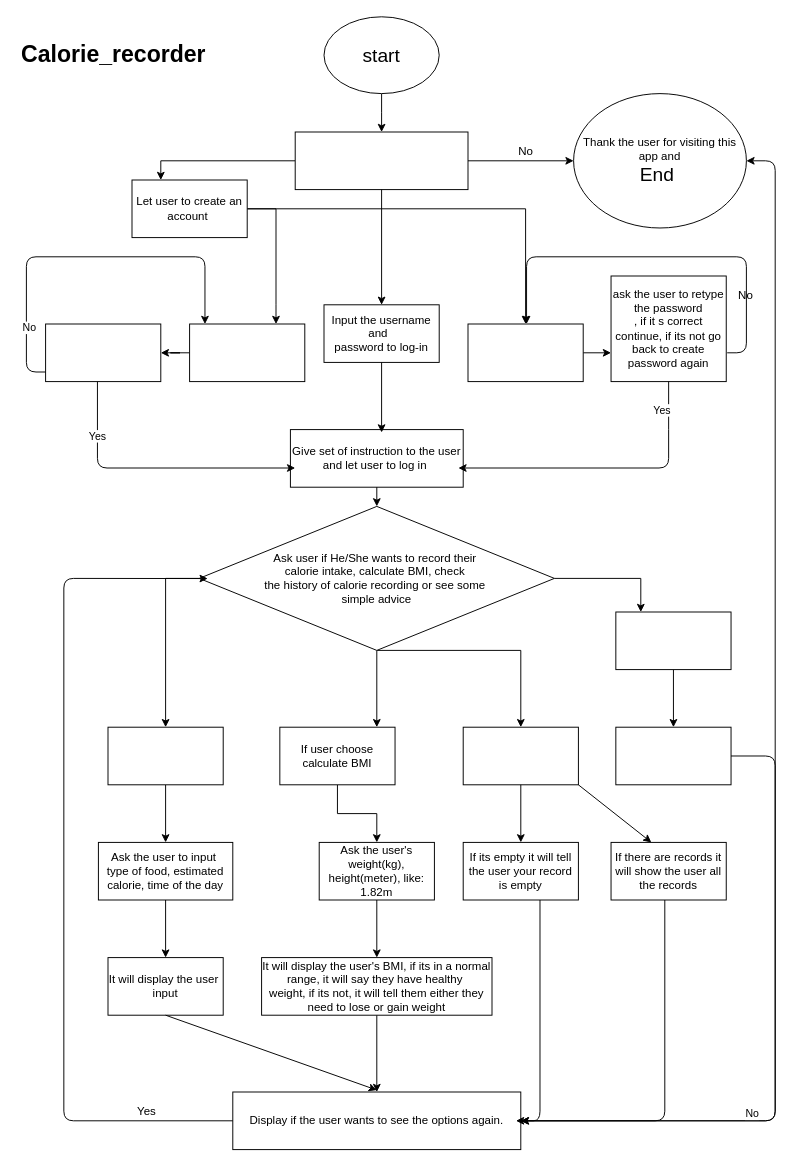
This 800x1166 diagram has some shape labels left out. The shapes that lost their labels are listed below. From the top down, each one's centre as x and y in pixels, then its label:
point (381, 160): Display the user to Sign-up Log-in or Exit
point (103, 352): ask the user if his sure to using the current username
point (247, 352): tell user to create user name
point (525, 352): tell user to create password
point (673, 640): if user choose to get simple advice
point (165, 755): If user choose record calorie intake
point (520, 755): If user choose check calorie record history
point (673, 755): Display the user simple advice
